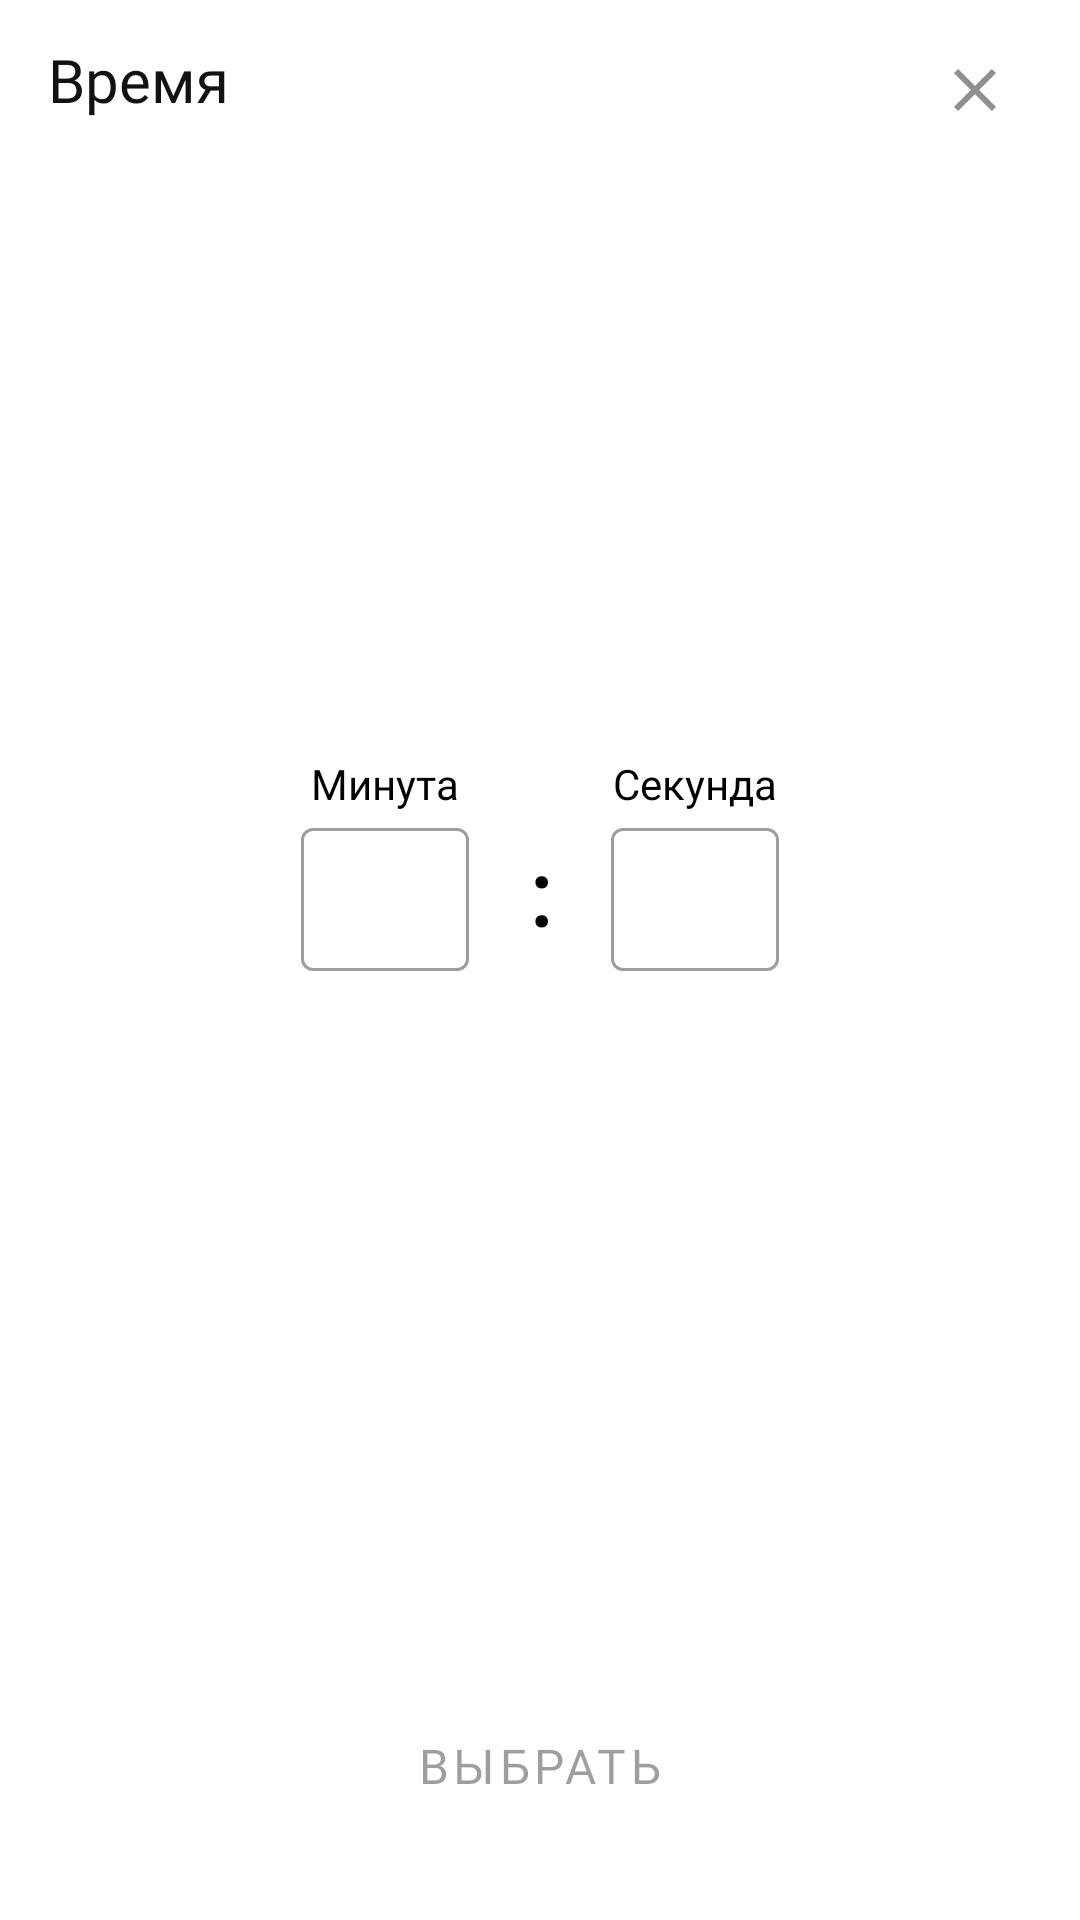

Screen size 1080 x 1920. Icon name, then its box in pixels as (x1, y1, x2, y2):
close: (954, 69, 996, 111)
